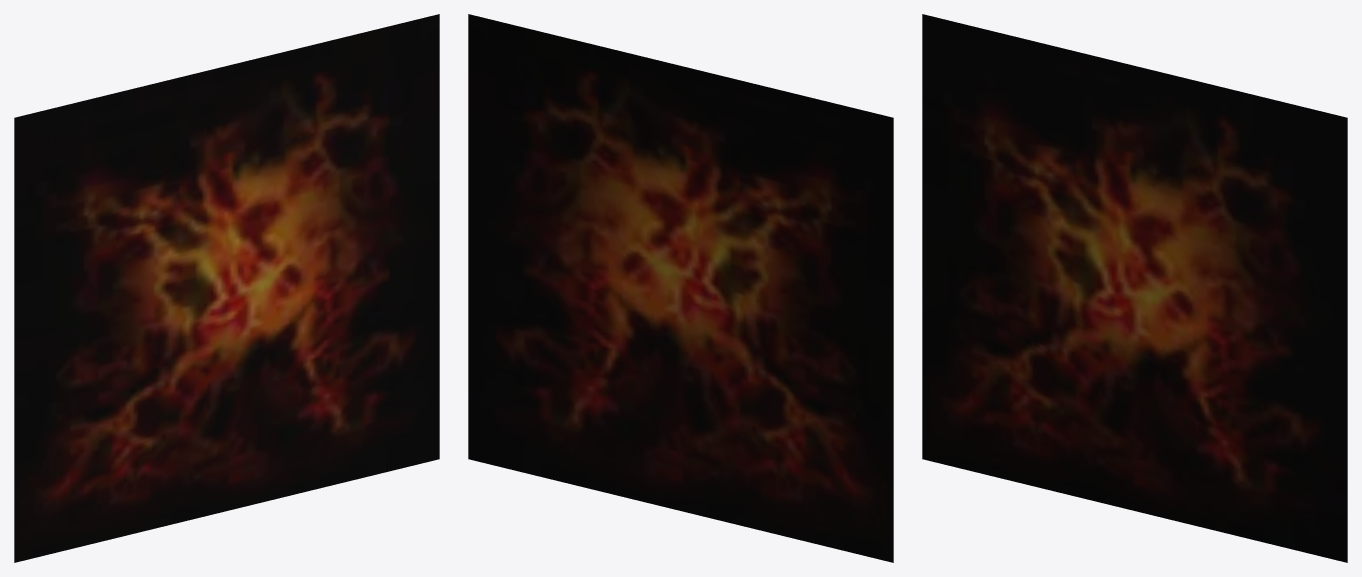
3 renders of one model, left to right at view 1: azimuth 30°, elevation 25°; view 2: azimuth 150°, elevation 25°; view 3: azimuth 330°, elevation 25°, orthographic.
Parts seen in each view (by area): view 1: model_Object82; view 2: model_Object82; view 3: model_Object82.
Part boxes in pixels (x1,y1,x2,y2): model_Object82: (14,14,439,562); model_Object82: (468,14,893,562); model_Object82: (922,14,1347,562).
Size of the model in its own units: 2.56 by 2.56 by 0.1224.
Materials: 1 (1 with a texture image).
